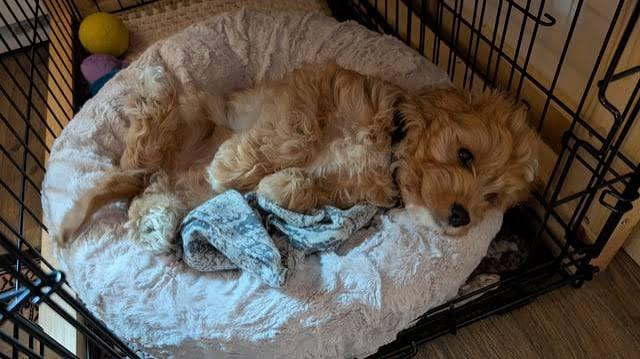puppy-dog: (57, 52, 542, 248)
